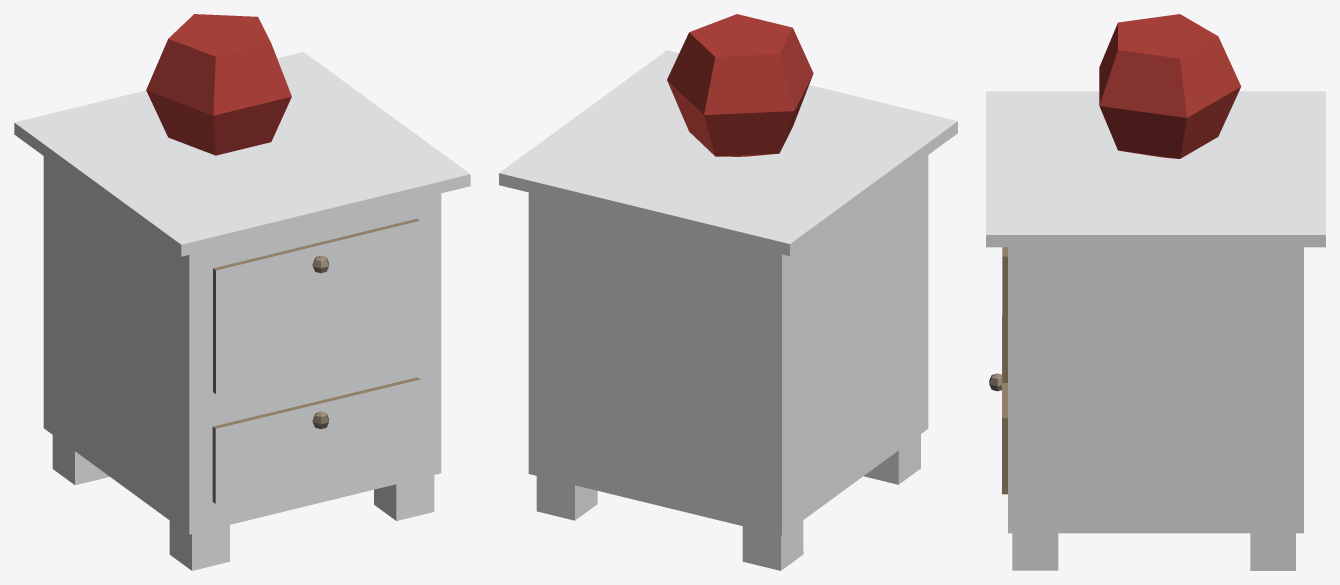
The model's file is Accesories_Bedside_Table._B.glb.
3 views of the same model, side by side, from view 1: azimuth 30°, elevation 25°; view 2: azimuth 150°, elevation 25°; view 3: azimuth 270°, elevation 25° (orthographic).
Parts seen in each view (by area): view 1: Accesories_Bedside_Table._B; view 2: Accesories_Bedside_Table._B; view 3: Accesories_Bedside_Table._B.
Part boxes in pixels (bbox=[...]): Accesories_Bedside_Table._B: bbox=[14, 14, 470, 570]; Accesories_Bedside_Table._B: bbox=[499, 14, 957, 570]; Accesories_Bedside_Table._B: bbox=[986, 14, 1325, 570].
Size of the model in its own units: 0.3221 by 0.4869 by 0.3221.
Materials: 1 (1 with a texture image).
